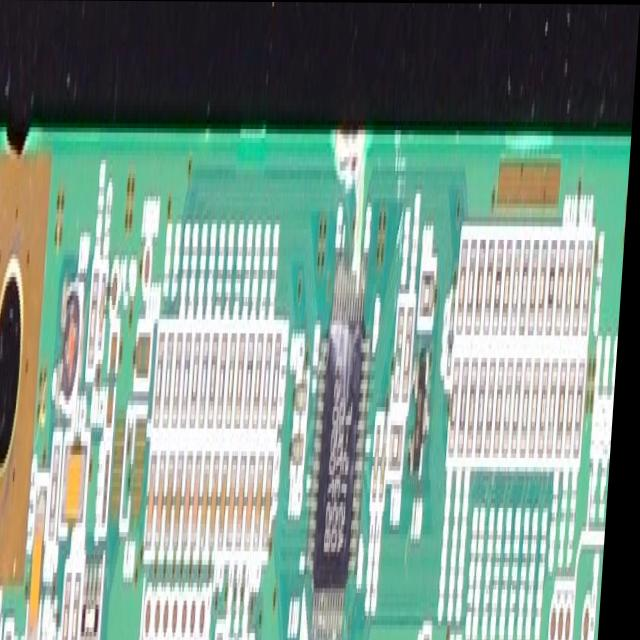IC: (316, 335, 367, 628)
capacitor: (35, 486, 54, 640), (67, 441, 96, 522), (215, 445, 228, 555), (259, 448, 272, 555), (251, 449, 263, 556), (152, 445, 164, 551), (206, 451, 218, 555), (224, 452, 236, 555), (197, 453, 209, 555), (269, 457, 281, 556), (188, 452, 200, 551), (234, 452, 245, 556), (243, 449, 254, 551), (162, 450, 173, 550), (179, 457, 190, 555), (171, 455, 182, 551), (102, 270, 112, 355), (385, 422, 394, 502), (379, 420, 387, 502), (301, 373, 314, 419), (298, 437, 310, 469), (225, 633, 232, 640), (431, 634, 439, 640)
resistor: (257, 320, 271, 428), (570, 346, 583, 457), (211, 325, 224, 433), (486, 234, 499, 339), (495, 236, 508, 339), (470, 227, 482, 334), (463, 355, 475, 461), (460, 234, 472, 339), (454, 357, 466, 461), (507, 353, 519, 457), (203, 328, 215, 432), (231, 325, 243, 428), (505, 236, 517, 339), (490, 355, 502, 457), (481, 356, 493, 457), (177, 327, 189, 428), (478, 233, 490, 334), (275, 331, 287, 429), (517, 351, 528, 457), (249, 331, 260, 437), (585, 238, 597, 335), (55, 446, 67, 541), (186, 326, 197, 428), (159, 330, 171, 423), (577, 234, 588, 335), (535, 357, 546, 457), (499, 357, 510, 457), (168, 328, 179, 428), (472, 358, 483, 457), (398, 303, 409, 402), (92, 274, 103, 373), (523, 236, 534, 335), (532, 235, 543, 334), (561, 359, 572, 457), (526, 359, 537, 457), (550, 237, 561, 335), (579, 361, 590, 458), (514, 237, 525, 334), (240, 332, 251, 428), (222, 332, 233, 428), (407, 307, 418, 402), (544, 359, 555, 453), (267, 334, 278, 428), (541, 241, 552, 335), (552, 365, 563, 457), (568, 240, 578, 339), (195, 332, 205, 428), (559, 244, 569, 335), (423, 268, 439, 320), (70, 568, 81, 640), (80, 573, 90, 640), (394, 427, 409, 470), (14, 631, 21, 640)
